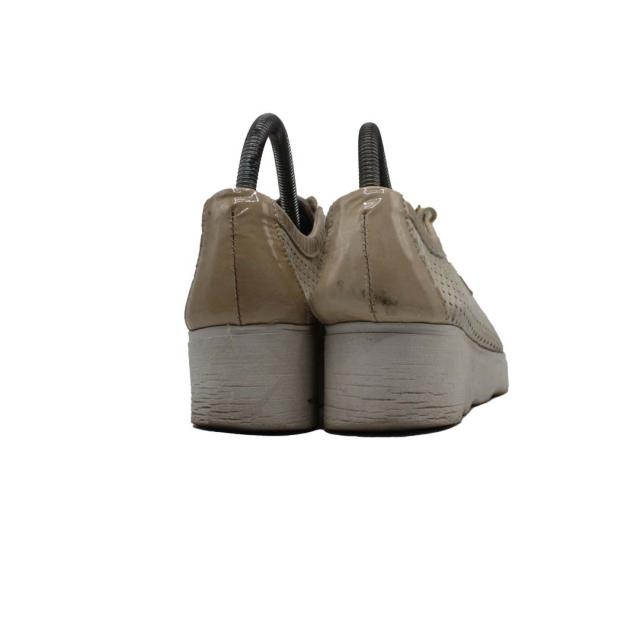heel: (176, 178, 313, 328), (324, 179, 454, 323)
midsole: (182, 323, 508, 435)
